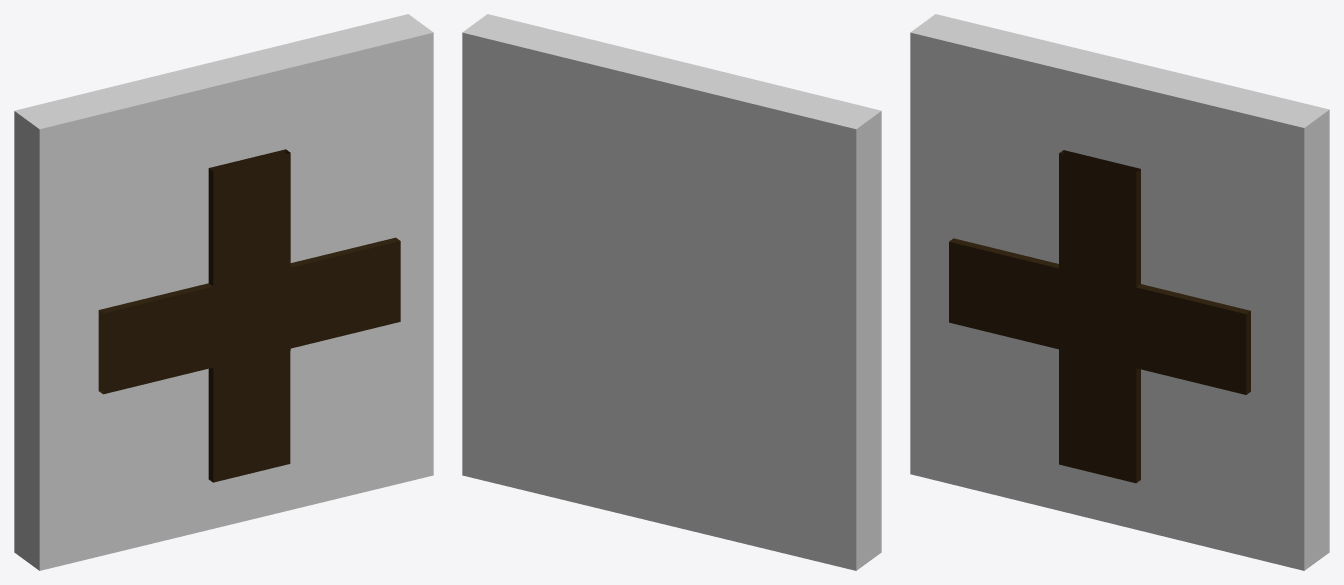
The model's file is button_add.gltf.
3 renders of one model, left to right at view 1: azimuth 30°, elevation 25°; view 2: azimuth 150°, elevation 25°; view 3: azimuth 330°, elevation 25°, orthographic.
Visible parts, largest first — view 1: ButtonAdd; view 2: ButtonAdd; view 3: ButtonAdd.
Part boxes in pixels (bbox=[...]): ButtonAdd: bbox=[14, 14, 433, 570]; ButtonAdd: bbox=[462, 14, 881, 570]; ButtonAdd: bbox=[910, 14, 1329, 570].
Bounding box in the file's own units: 0.1433 × 0.1539 × 0.0238.
